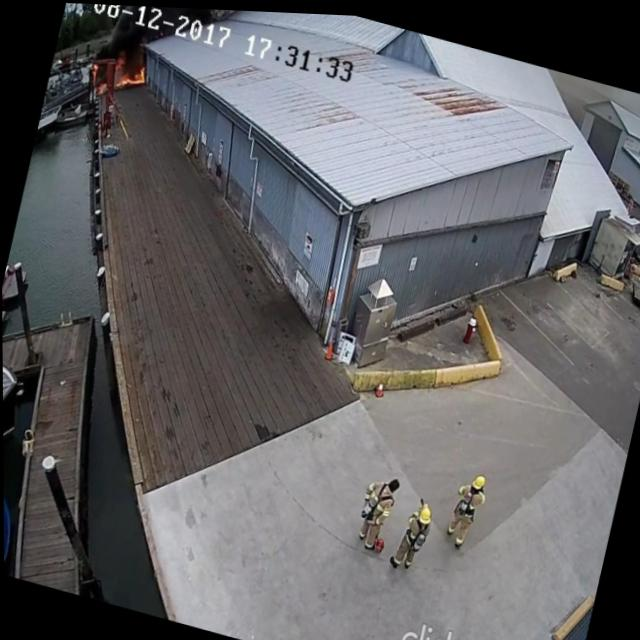fire: (111, 56, 150, 94), (86, 60, 112, 96)
